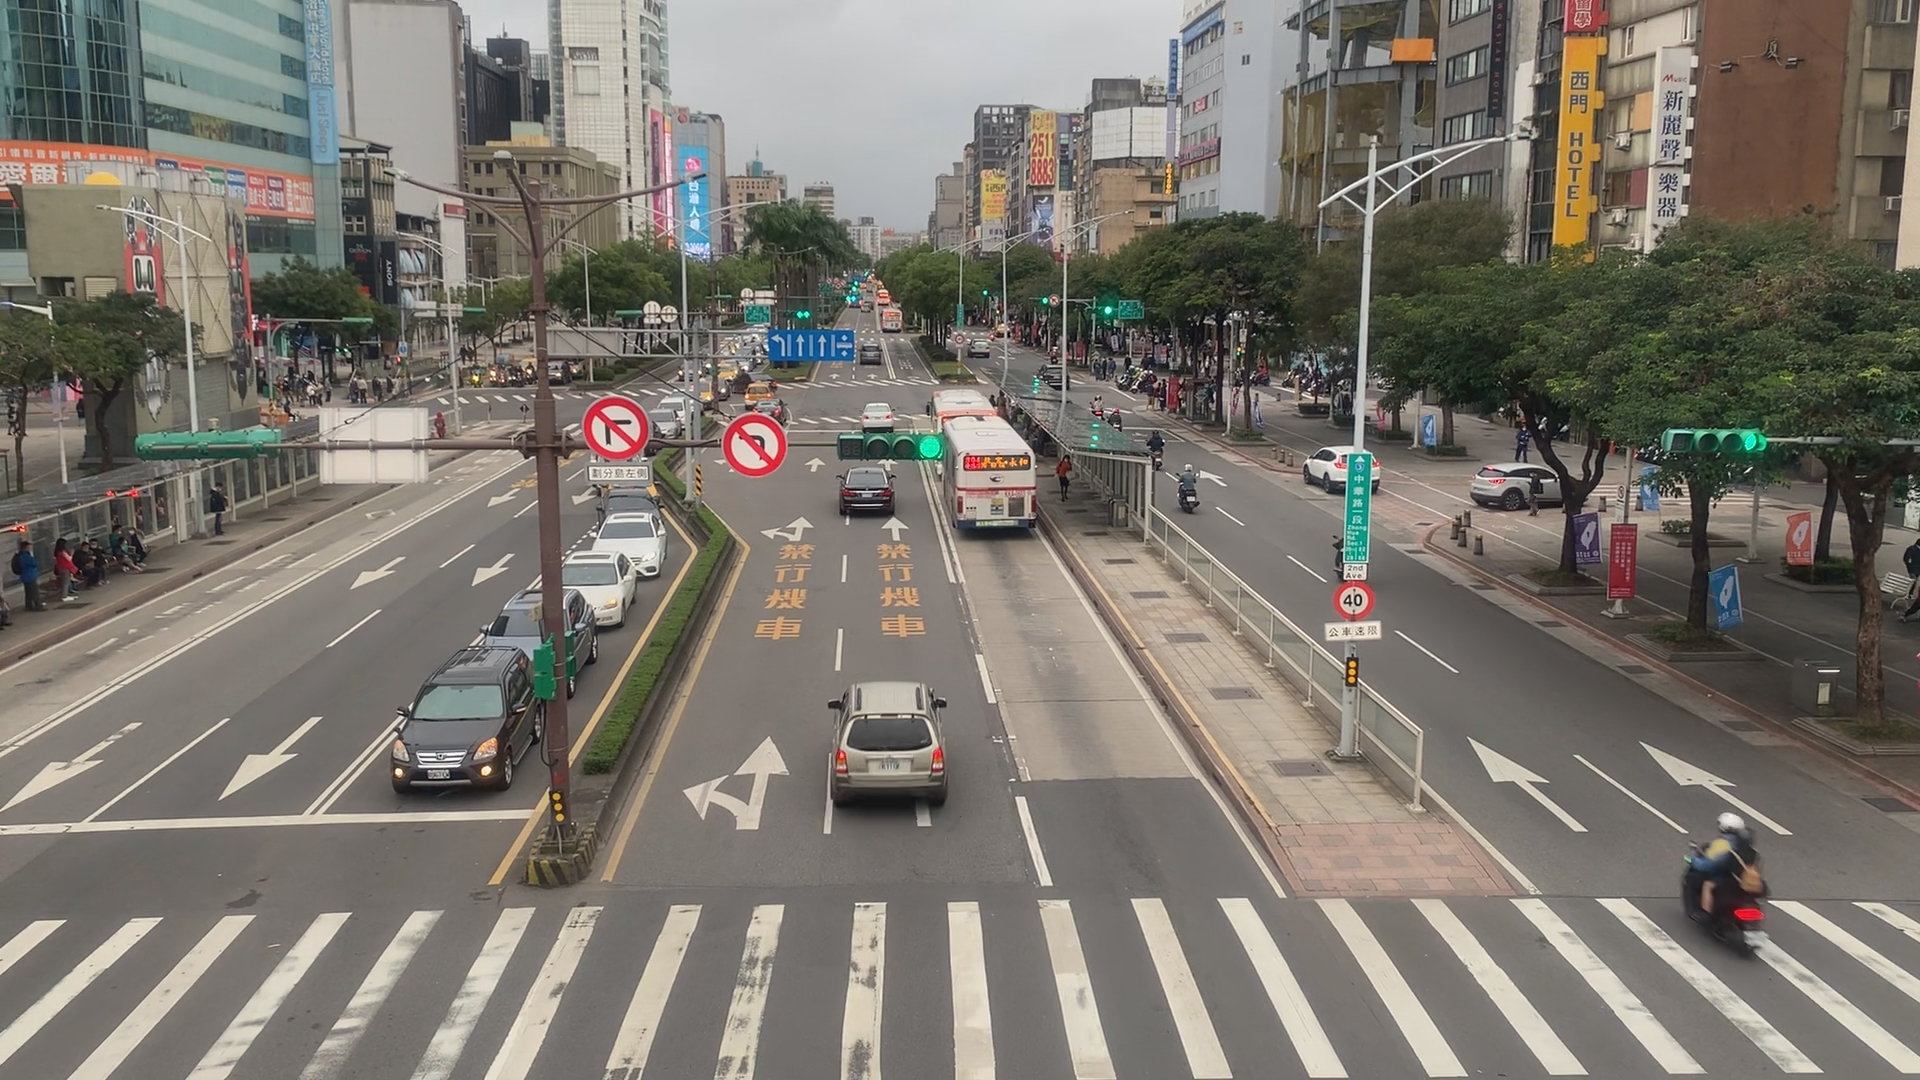Bus: (934, 417, 1044, 531), (928, 380, 1000, 467), (876, 306, 910, 339)
Business Passenger Car: (742, 378, 771, 404)
Motorcycle: (1643, 787, 1799, 972), (1167, 458, 1218, 527), (1137, 418, 1175, 489), (1101, 394, 1133, 448), (1084, 386, 1106, 429)
Private Passenger Car: (394, 644, 542, 796), (468, 578, 603, 717), (827, 680, 957, 804), (546, 541, 641, 632), (589, 506, 680, 601), (1462, 448, 1581, 520), (1302, 442, 1385, 505), (593, 467, 659, 533), (843, 454, 899, 524), (641, 402, 688, 448), (853, 394, 905, 433), (746, 397, 798, 431), (1034, 367, 1075, 398), (856, 339, 882, 367), (968, 332, 992, 359)
